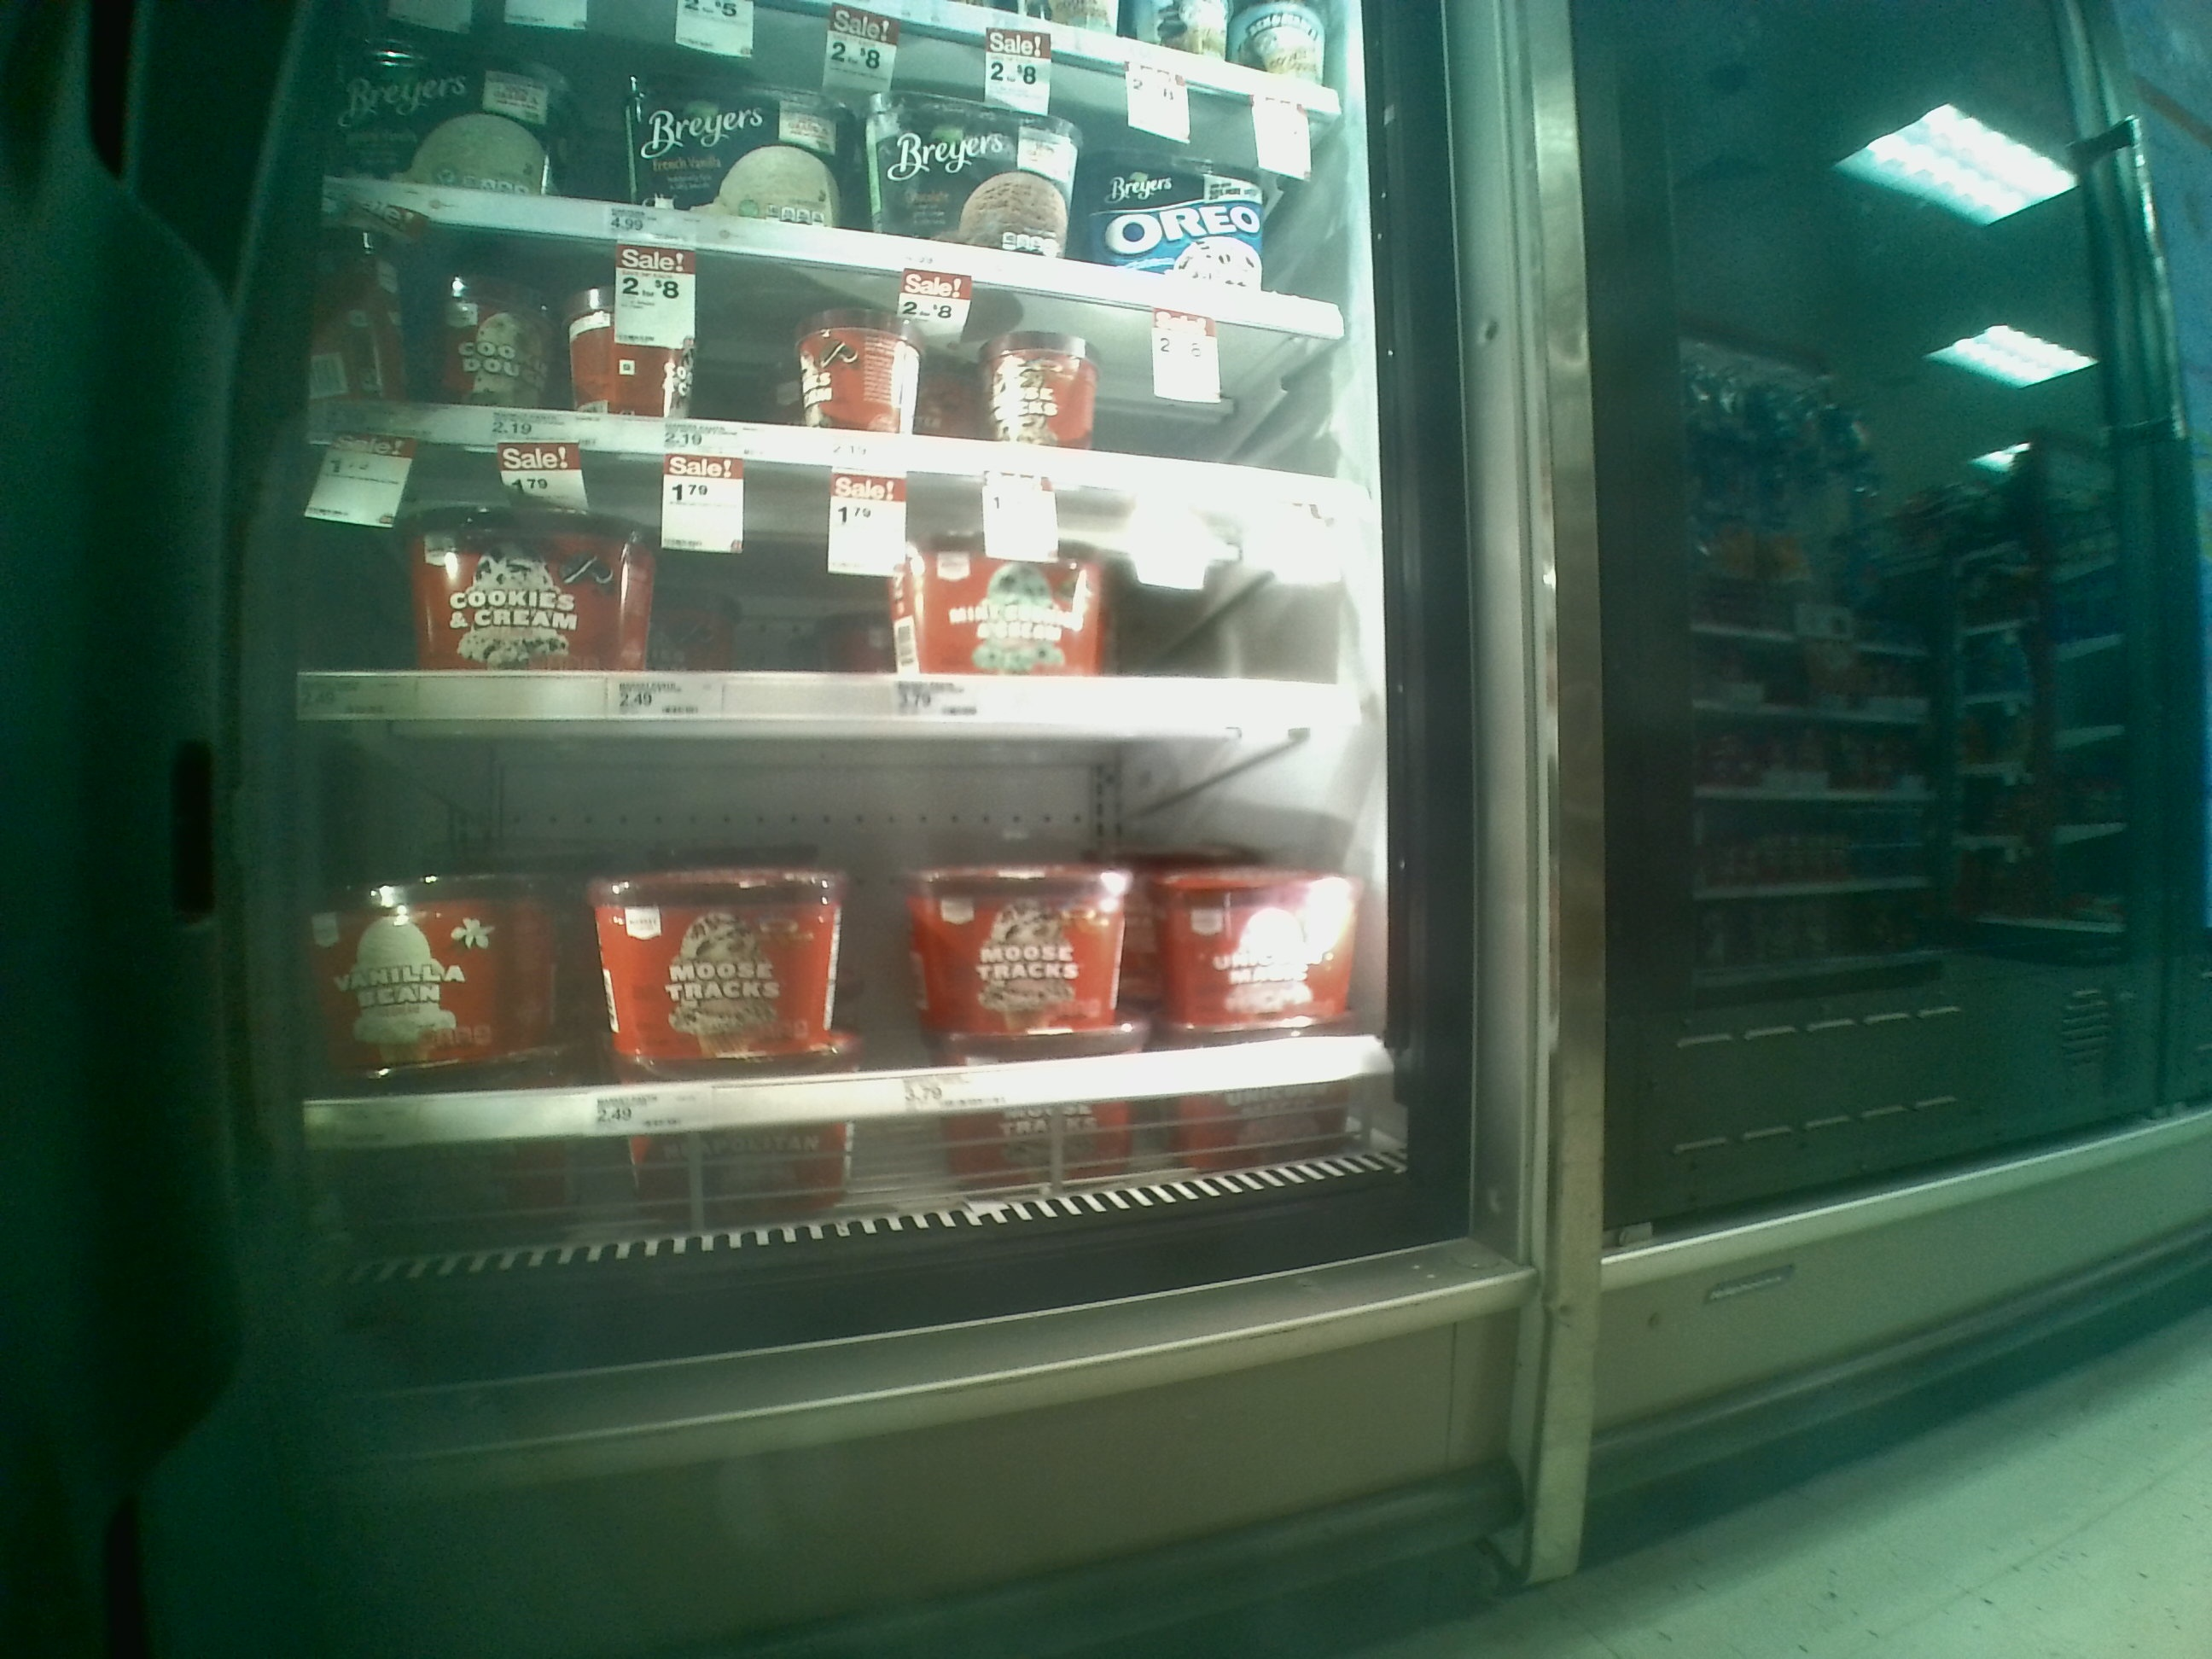shelf: (307, 716, 1399, 1168), (308, 446, 1379, 718)
